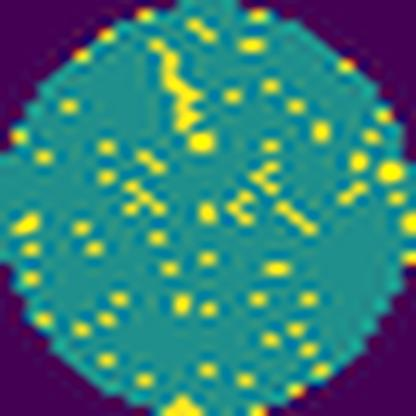Scratch: (146, 36, 209, 138)
